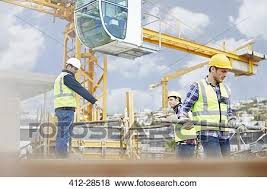helmet: (210, 53, 232, 70), (67, 58, 82, 70), (166, 89, 182, 99)
vest: (198, 82, 233, 129), (52, 74, 77, 111), (175, 113, 197, 142)
